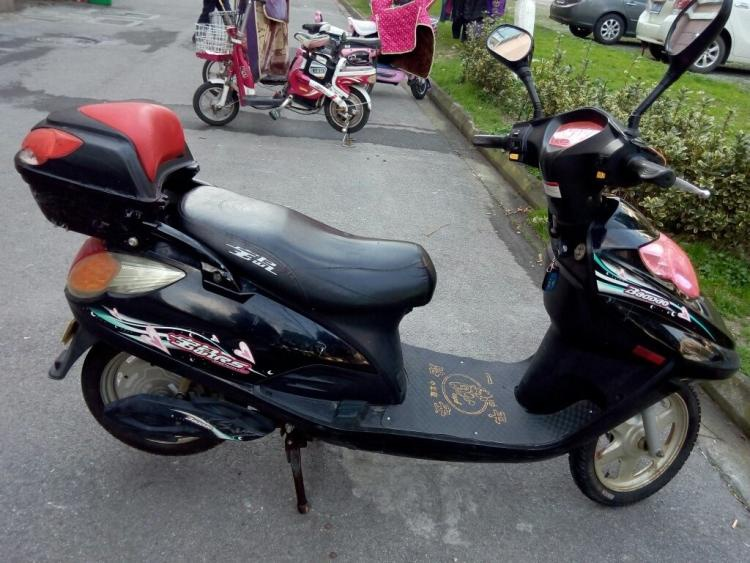non-vehicle: (10, 105, 736, 508), (187, 29, 374, 131), (304, 12, 437, 98)
